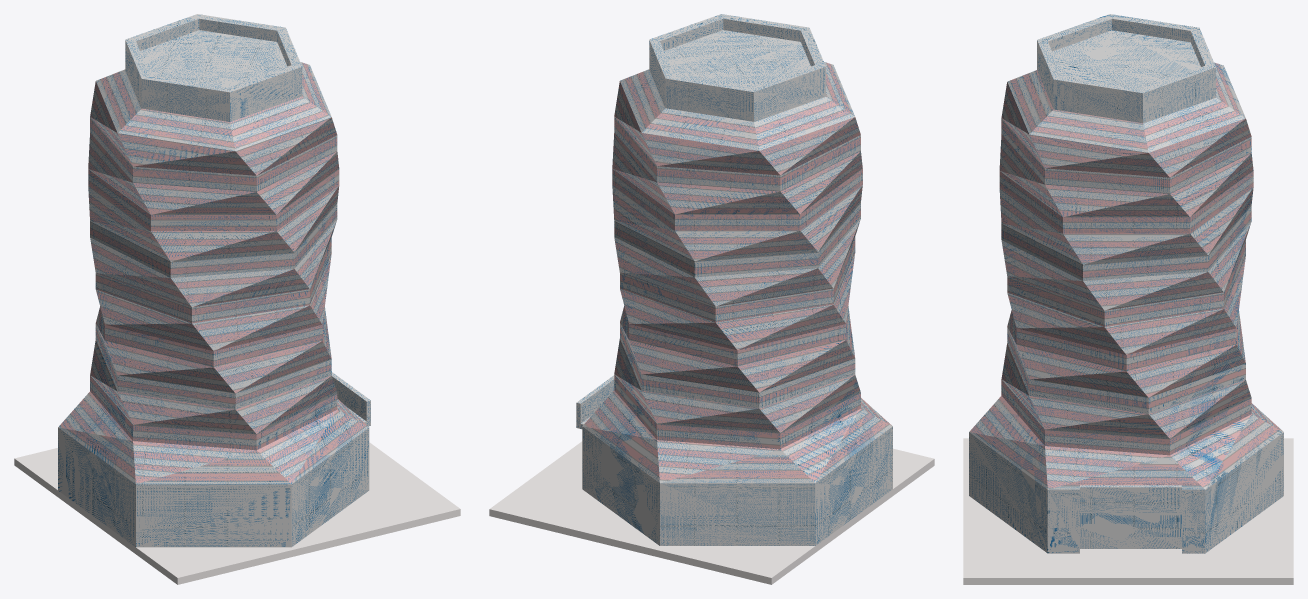
The model's file is fütüristik.dae.
3 views of the same model, side by side, from view 1: azimuth 30°, elevation 25°; view 2: azimuth 150°, elevation 25°; view 3: azimuth 270°, elevation 25° (orthographic).
Visible parts, largest first — view 1: group_0 (×4), group_1; view 2: group_0 (×4), group_1; view 3: group_0 (×4), group_1.
Part boxes in pixels (box(x1,y1,x2,y2)): group_0 (×4): box(58, 14, 370, 547); group_1: box(14, 442, 460, 584); group_0 (×4): box(576, 14, 892, 545); group_1: box(489, 441, 934, 584); group_0 (×4): box(969, 14, 1283, 553); group_1: box(963, 438, 1293, 584).
Bounding box in the file's own units: 134 × 134 × 201.
Materials: 4 (4 with a texture image).
